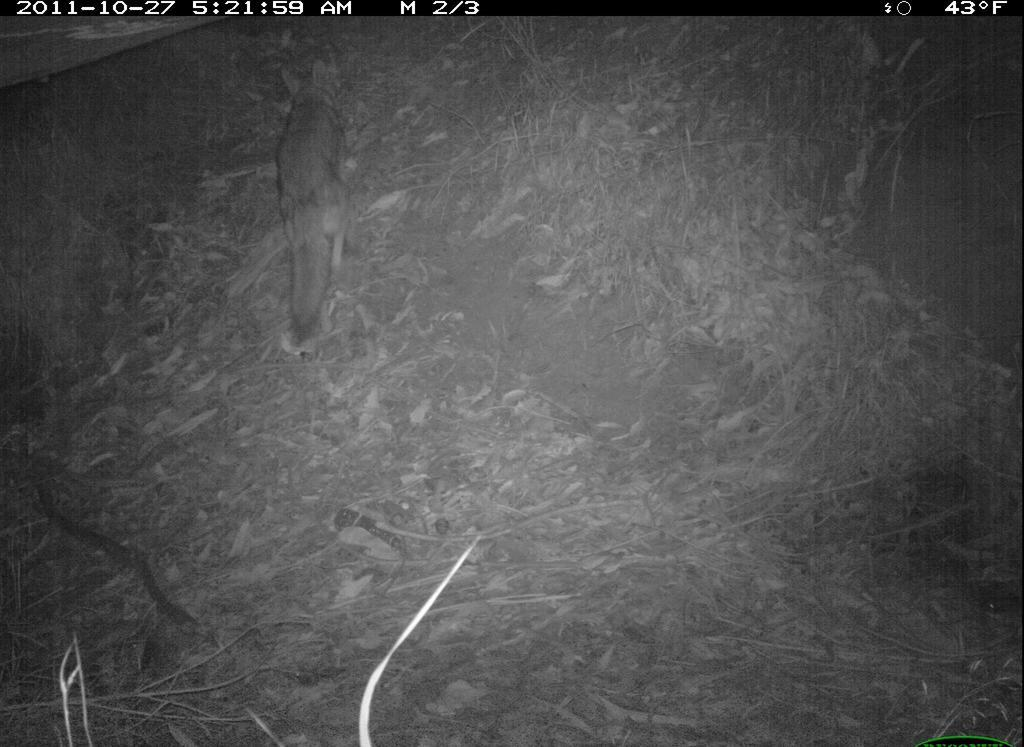coyote: (249, 57, 365, 361)
